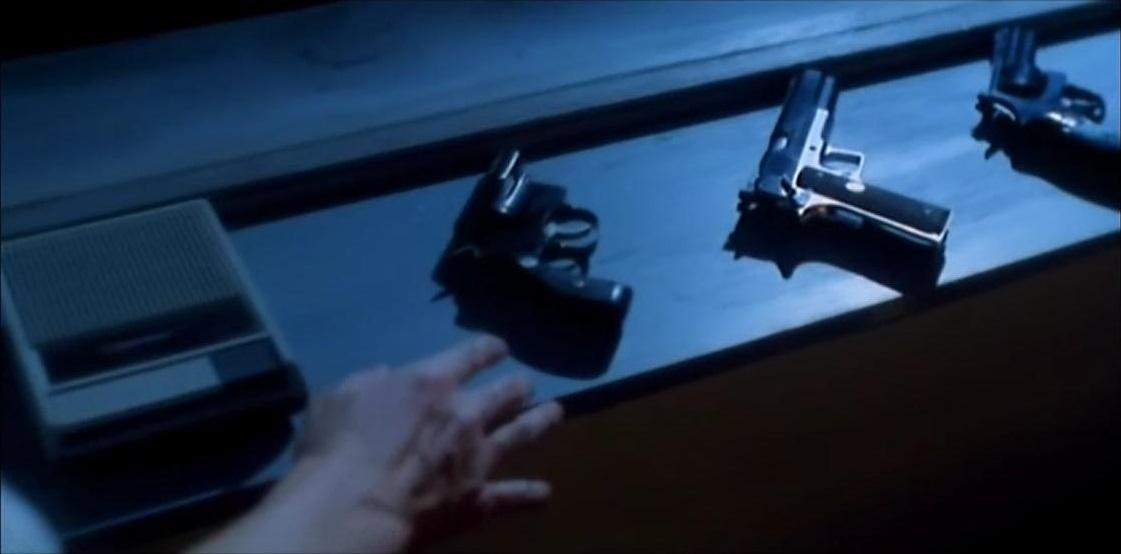gun: (746, 51, 965, 341)
